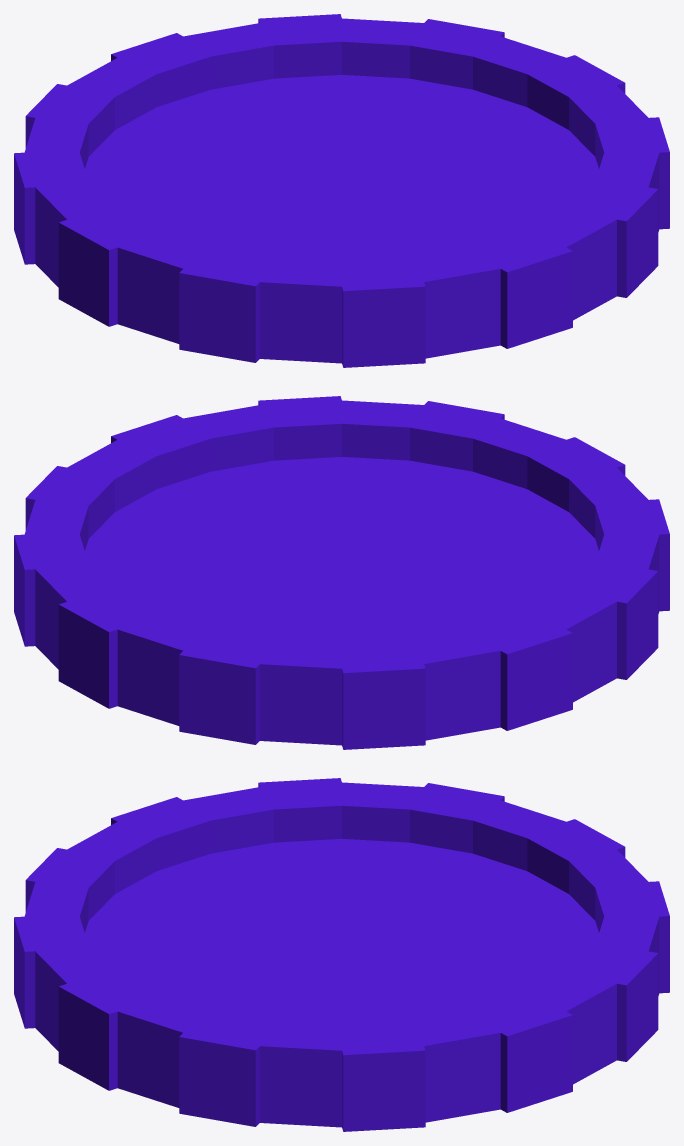
Rendered from SM_SiseKapagi.fbx.
3 renders of one model, top to bottom at view 1: azimuth 30°, elevation 25°; view 2: azimuth 150°, elevation 25°; view 3: azimuth 270°, elevation 25°, orthographic.
Parts seen in each view (by area): view 1: Cylinder.001; view 2: Cylinder.001; view 3: Cylinder.001.
Boxes of the visible parts, <box> form: Cylinder.001: <box>14,14,669,367</box>; Cylinder.001: <box>14,396,669,749</box>; Cylinder.001: <box>14,778,669,1131</box>.
Bounding box in the file's own units: 62 × 8 × 62.
